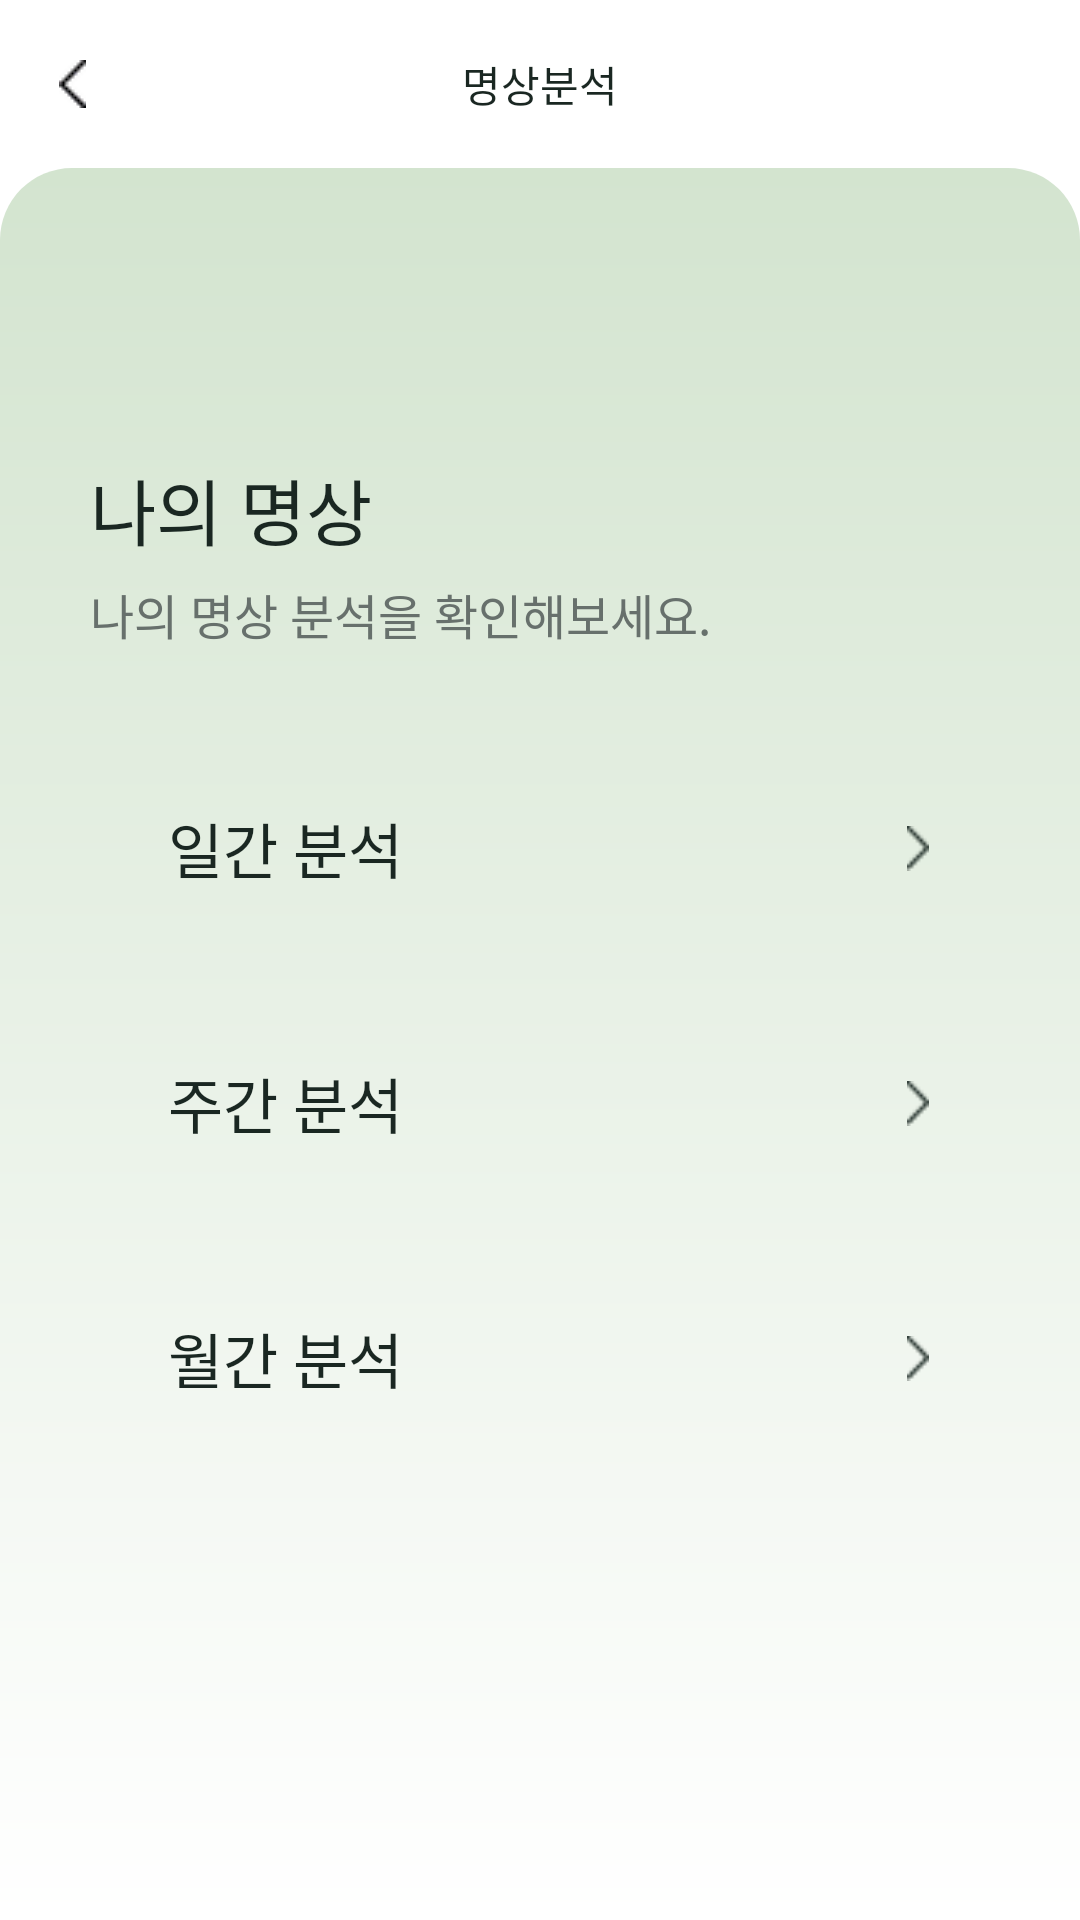

Named icons in this screenshot (1080*1920) and their bounding boxes, (x1, y1, x2, y2):
뒤로가기: (59, 60, 86, 108)
이동: (907, 826, 929, 871), (907, 1081, 929, 1126), (907, 1336, 929, 1381)
